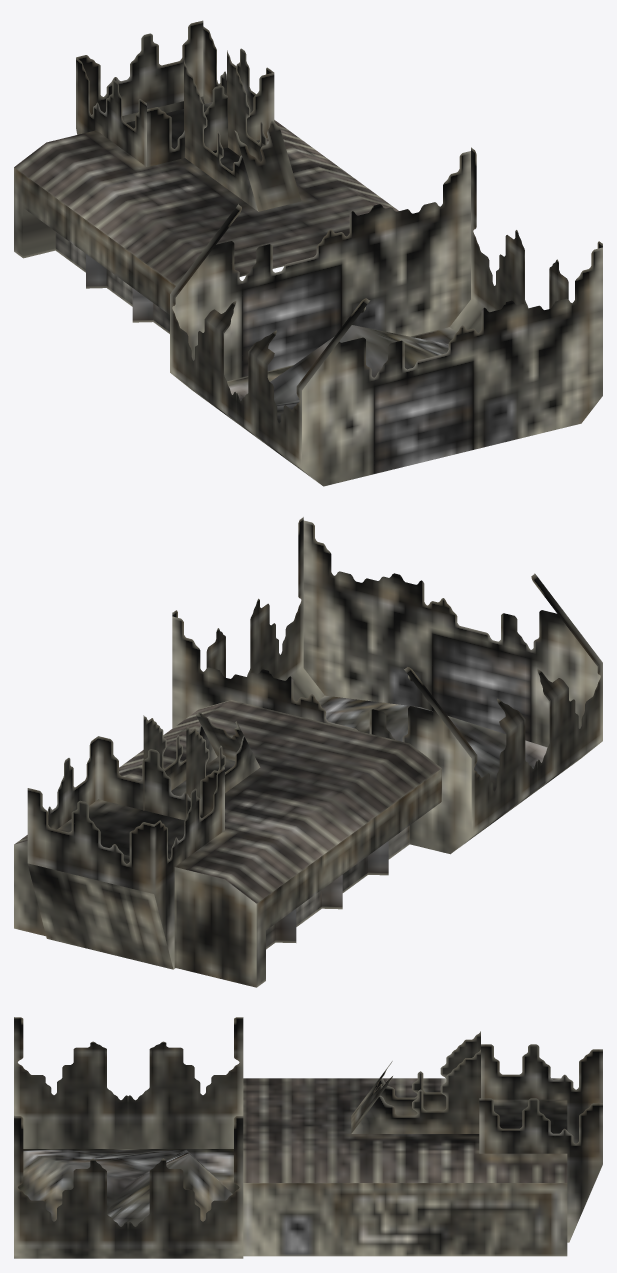
File: trafcon2_dam.glb
The picture shows the model from 3 angles, top to bottom: view 1: azimuth 30°, elevation 25°; view 2: azimuth 150°, elevation 25°; view 3: azimuth 270°, elevation 25°; orthographic projection. The views are drawn at different scales.
Visible parts, largest first — view 1: Trafcon2Dam; view 2: Trafcon2Dam; view 3: Trafcon2Dam.
Part boxes in pixels (left/top/right/bottom): Trafcon2Dam: left=14, top=20, right=602, bottom=486; Trafcon2Dam: left=14, top=517, right=602, bottom=987; Trafcon2Dam: left=14, top=1017, right=602, bottom=1258.
Size of the model in its own units: 22.4 by 14.28 by 43.65.
1 material, 1 textured.
